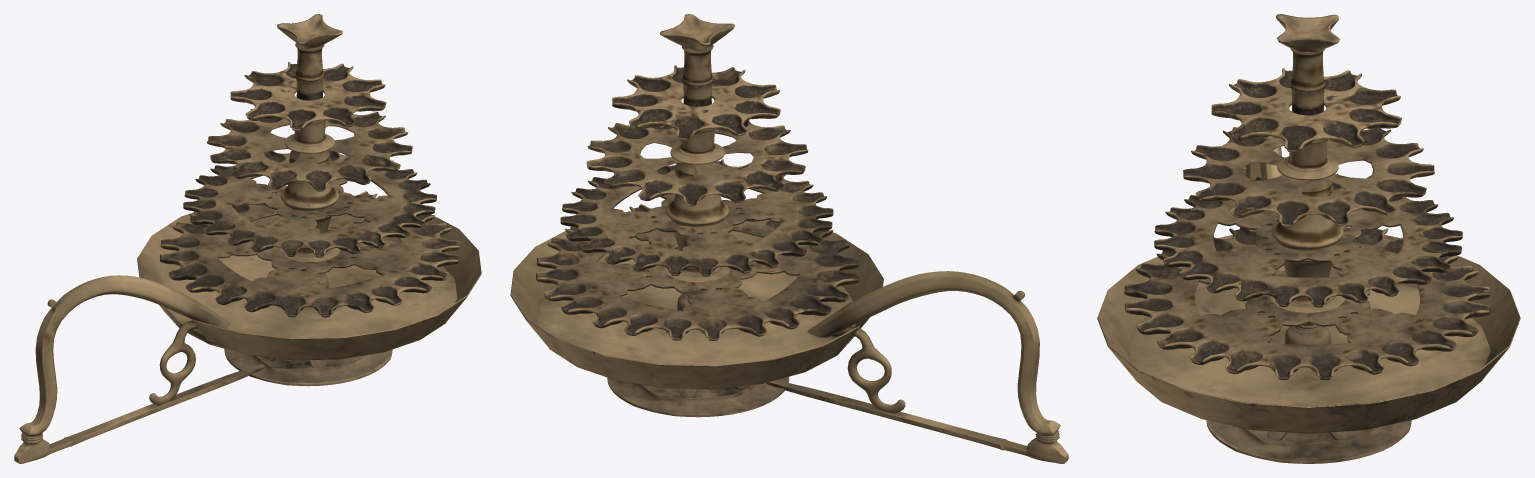
File: traditional.glb
3 views of the same model, side by side, from view 1: azimuth 30°, elevation 25°; view 2: azimuth 150°, elevation 25°; view 3: azimuth 270°, elevation 25° (orthographic). The views are drawn at different scales.
Parts seen in each view (by area): view 1: pPlane67, polySurface8; view 2: pPlane67, polySurface8; view 3: pPlane67, polySurface8.
Boxes of the visible parts, box(x1,y1,x2,y2) form: pPlane67: box(160, 62, 460, 317); polySurface8: box(14, 14, 481, 463); pPlane67: box(536, 65, 859, 340); polySurface8: box(510, 14, 1068, 463); pPlane67: box(1124, 68, 1490, 379); polySurface8: box(1097, 14, 1520, 463).
Size of the model in its own units: 0.1878 by 0.1305 by 0.1206.
Materials: 2 (2 with a texture image).
